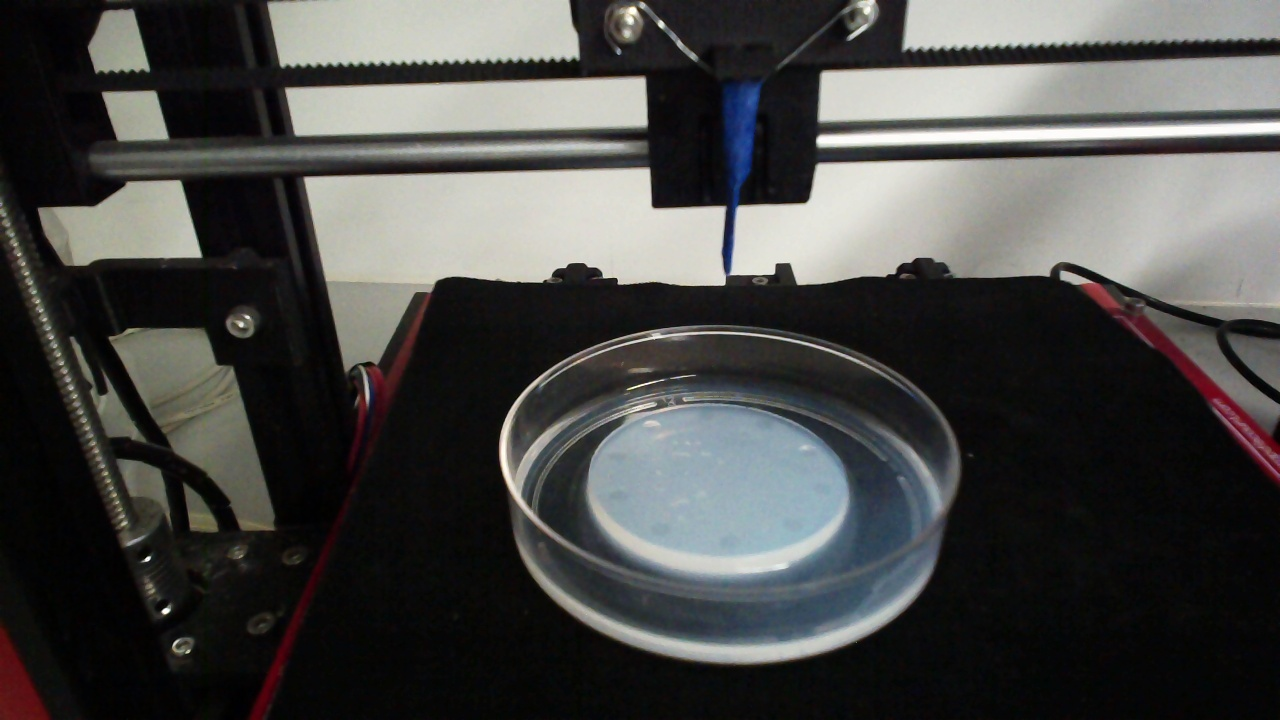groove: (782, 516, 804, 534), (812, 480, 835, 497), (754, 415, 776, 432), (648, 521, 671, 537), (717, 534, 739, 550), (604, 447, 627, 462), (640, 419, 661, 433), (796, 444, 817, 458), (607, 489, 628, 502), (696, 409, 715, 423)
needle: (722, 81, 760, 275)
